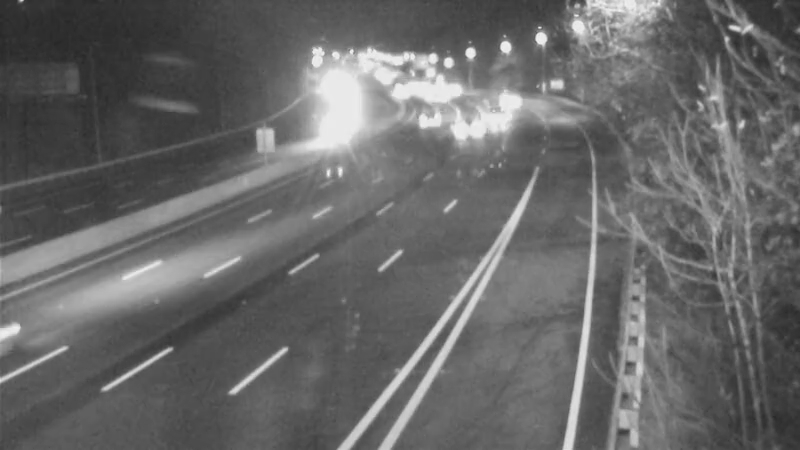vehicle: (485, 76, 535, 126), (470, 89, 520, 139), (405, 93, 455, 143), (445, 103, 495, 153), (310, 105, 360, 155)
